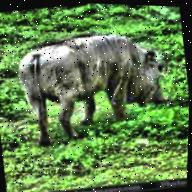boar: (16, 17, 192, 147)
